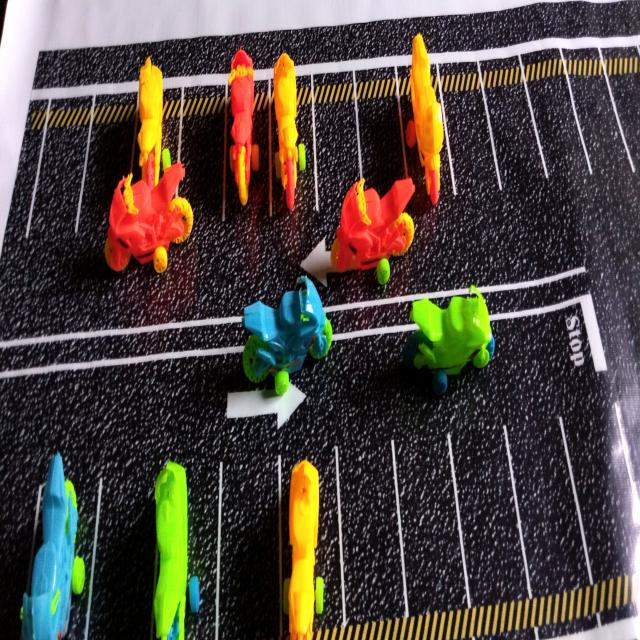bikes: (243, 276, 332, 395), (403, 285, 494, 395), (105, 163, 193, 273), (331, 178, 414, 285)
occupied: (20, 452, 102, 640), (153, 461, 218, 640), (279, 459, 342, 640), (398, 33, 456, 205), (268, 54, 319, 235), (223, 48, 274, 227), (137, 57, 180, 186)
slots: (453, 420, 527, 603), (511, 421, 589, 594), (395, 434, 466, 615), (339, 433, 405, 622), (563, 406, 634, 579), (89, 463, 157, 640), (219, 453, 278, 638), (570, 75, 640, 202), (485, 84, 547, 190), (30, 125, 87, 240), (80, 121, 133, 242), (315, 79, 359, 224), (529, 76, 590, 179), (445, 90, 498, 204), (179, 111, 224, 220), (358, 95, 405, 197)
